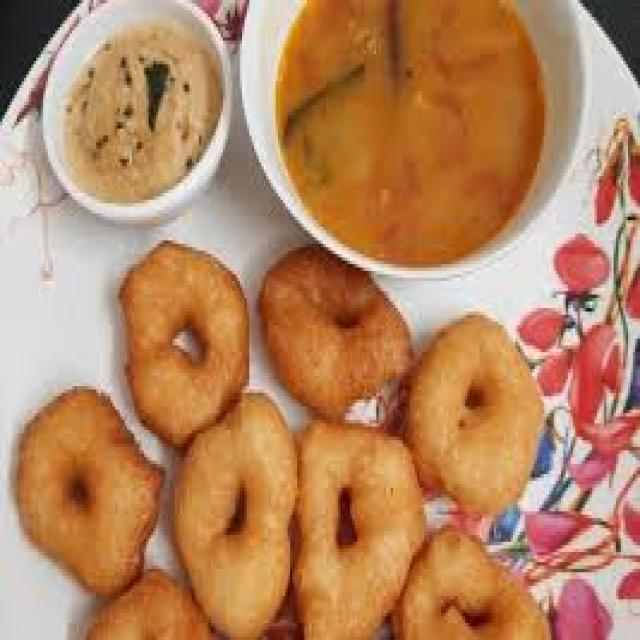MEDU VADA: (12, 389, 161, 593), (173, 393, 292, 637), (292, 420, 422, 637), (405, 312, 542, 515), (117, 240, 247, 444), (261, 244, 412, 417), (393, 532, 549, 637), (86, 569, 216, 637)
